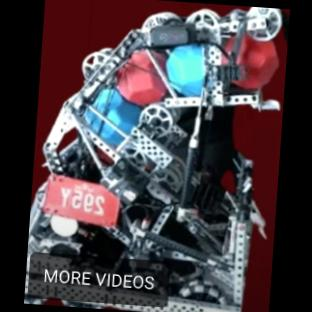Robot: (27, 6, 283, 312)
